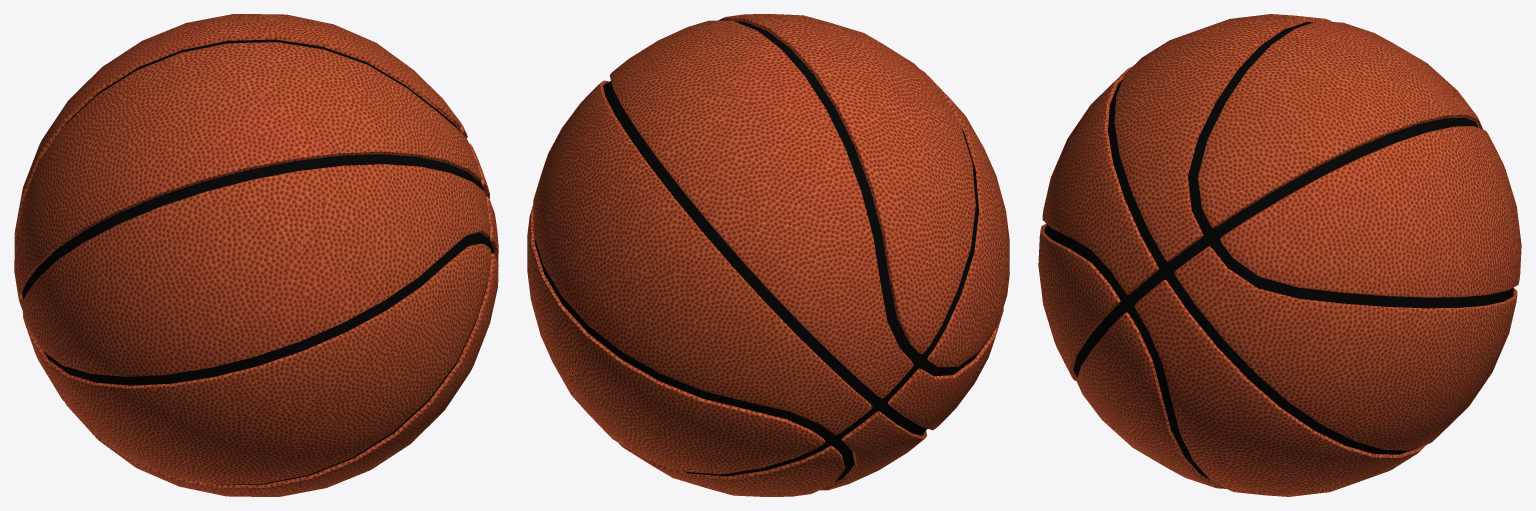
File: basketball.glb
3 views of the same model, side by side, from view 1: azimuth 30°, elevation 25°; view 2: azimuth 150°, elevation 25°; view 3: azimuth 270°, elevation 25° (orthographic).
Parts seen in each view (by area): view 1: basketball; view 2: basketball; view 3: basketball.
Boxes of the visible parts, <box> form: basketball: <box>14,14,498,496</box>; basketball: <box>527,14,1009,496</box>; basketball: <box>1038,14,1521,496</box>.
Bounding box in the file's own units: 0.2532 × 0.2521 × 0.2529.
1 material, 1 textured.
